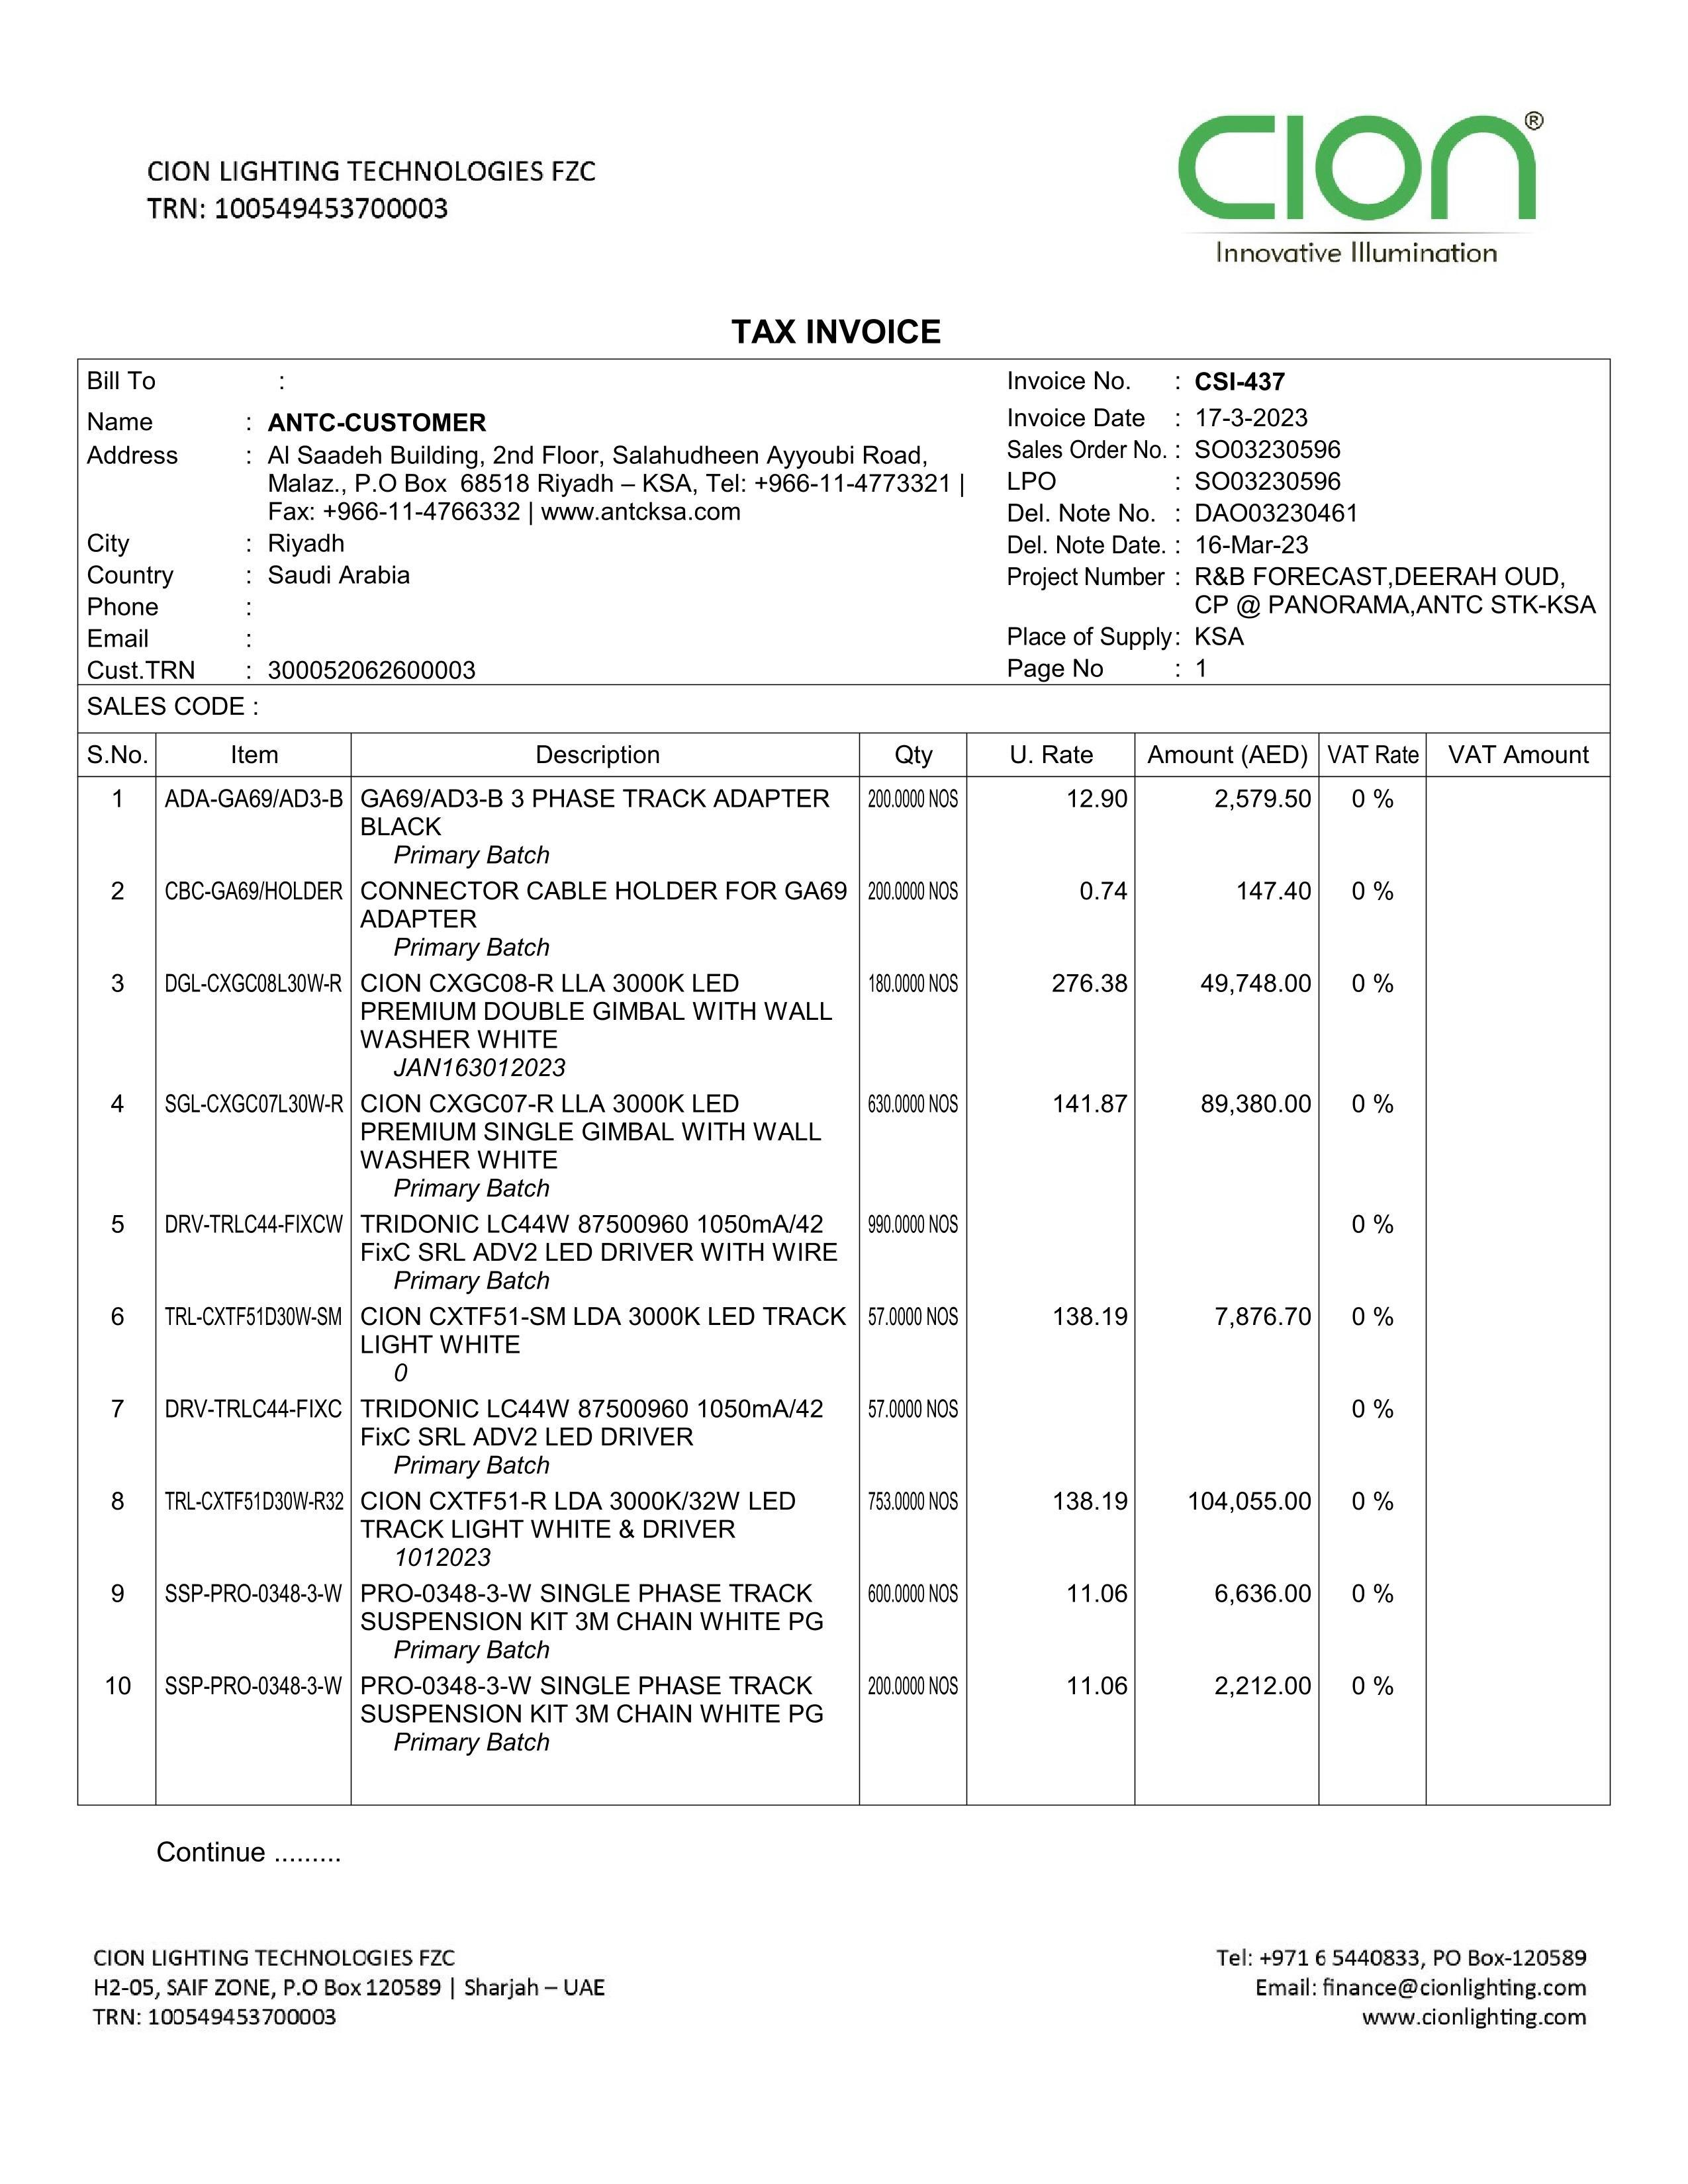InvoiceDate: (1176, 404, 1328, 441)
InvoiceNumber: (1183, 358, 1305, 404)
